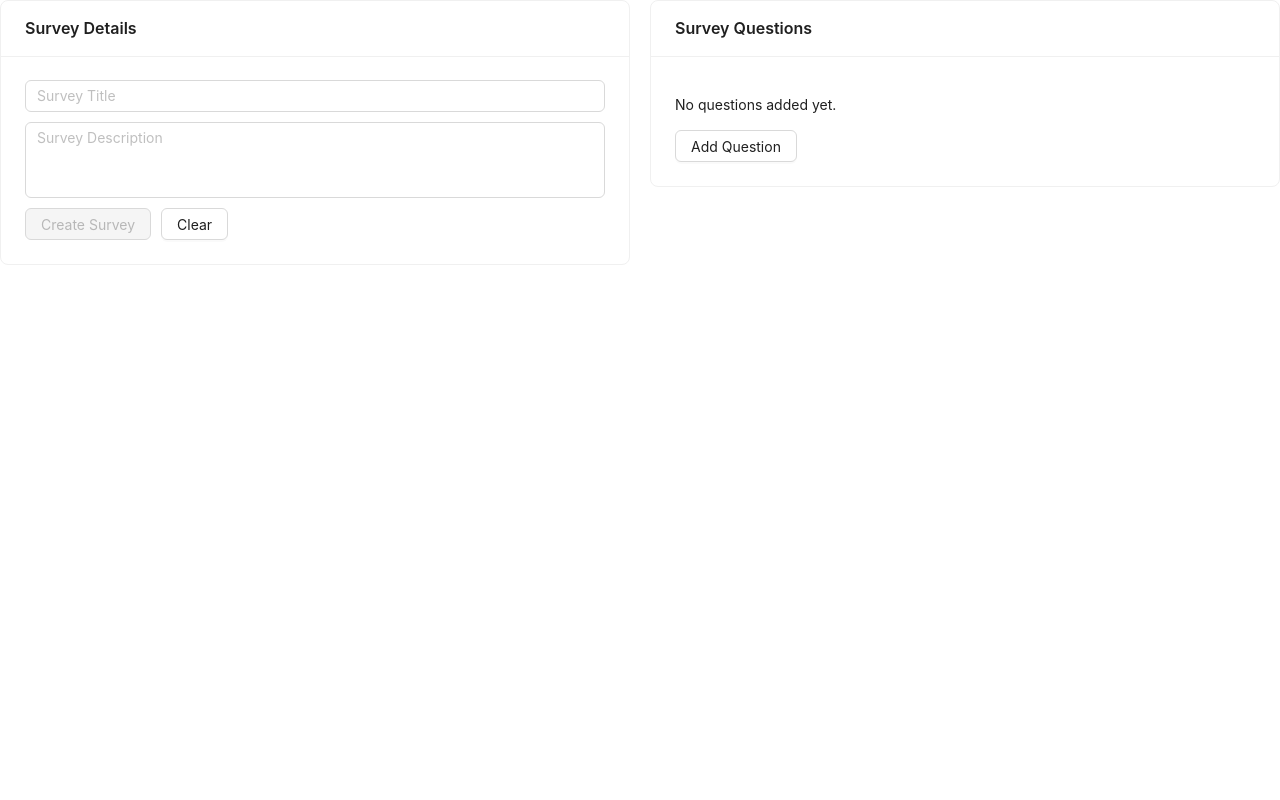
Test: CreateSurvey component › Add Question button opens modal
This screenshot has width=1280, height=800.
Click the button "Add Question" at (736, 146), box top-left (675, 130), bottom-right (797, 162)
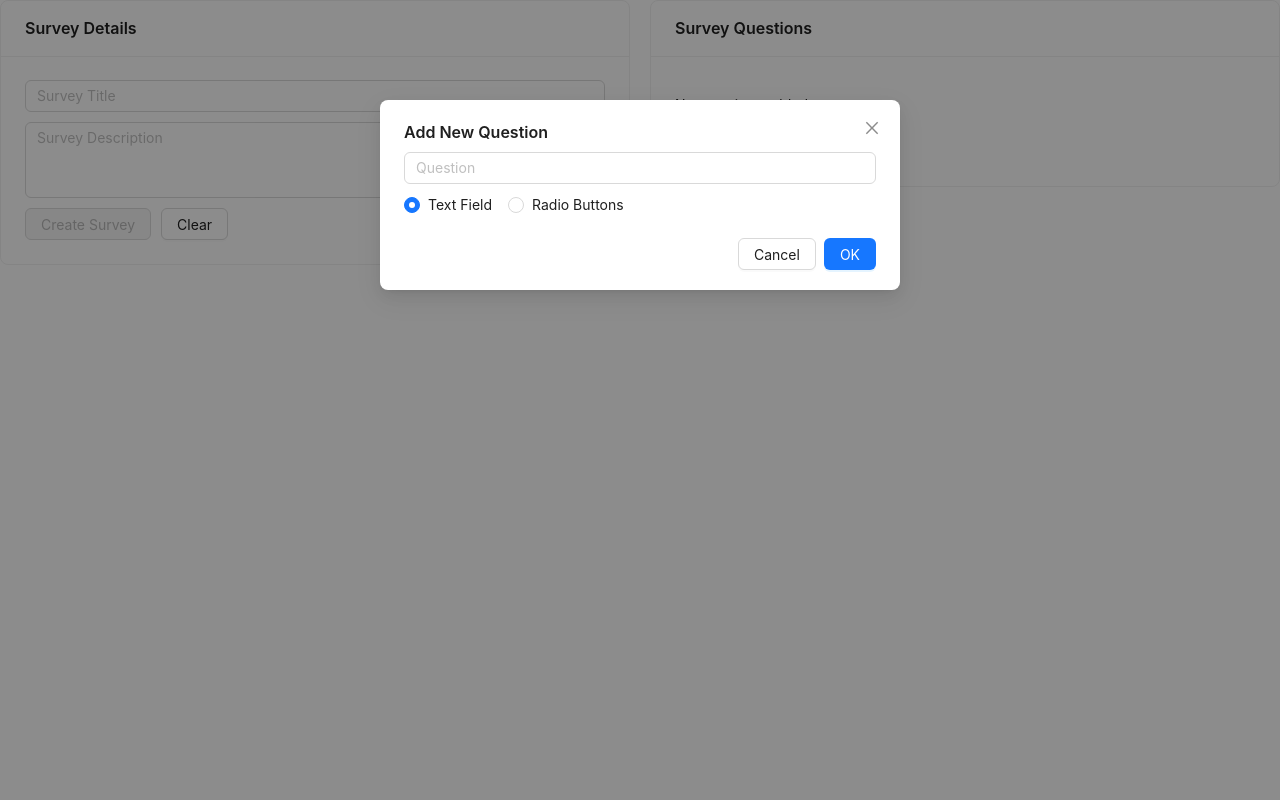
Expected: the text "Add New Question" is shown, top-left (404, 122), bottom-right (548, 142)
